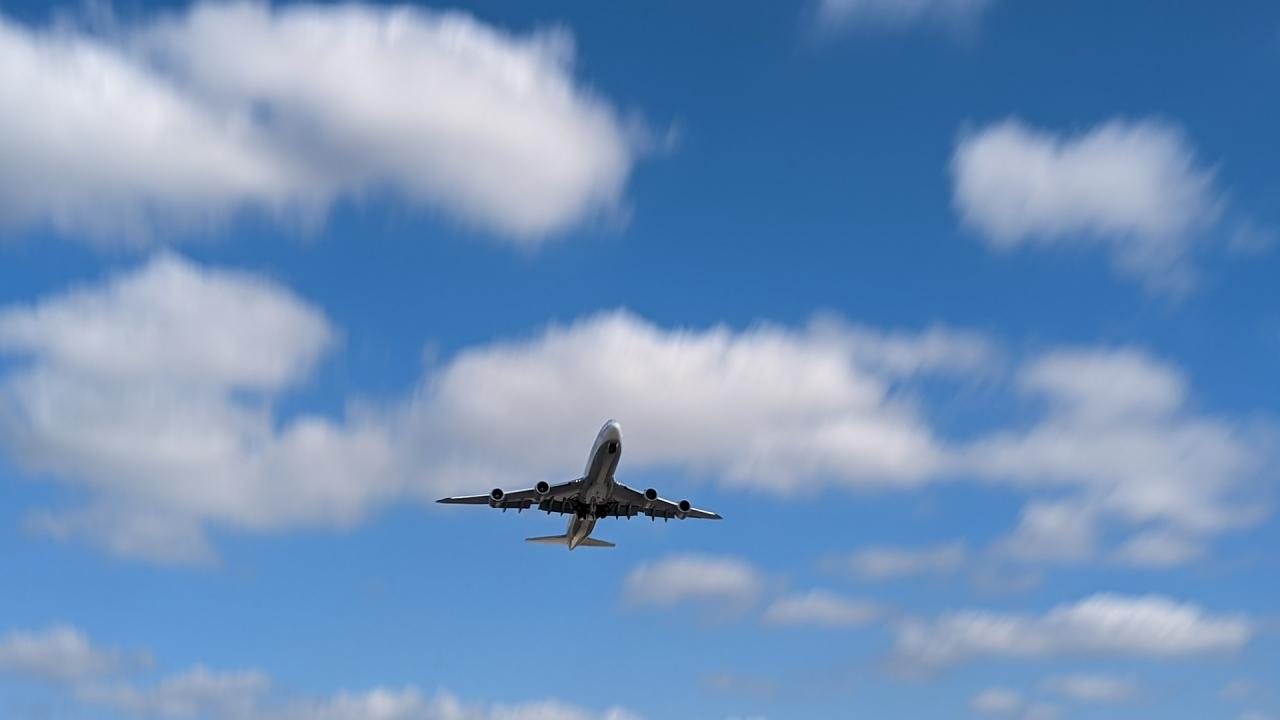Airplane: (425, 410, 734, 557)
